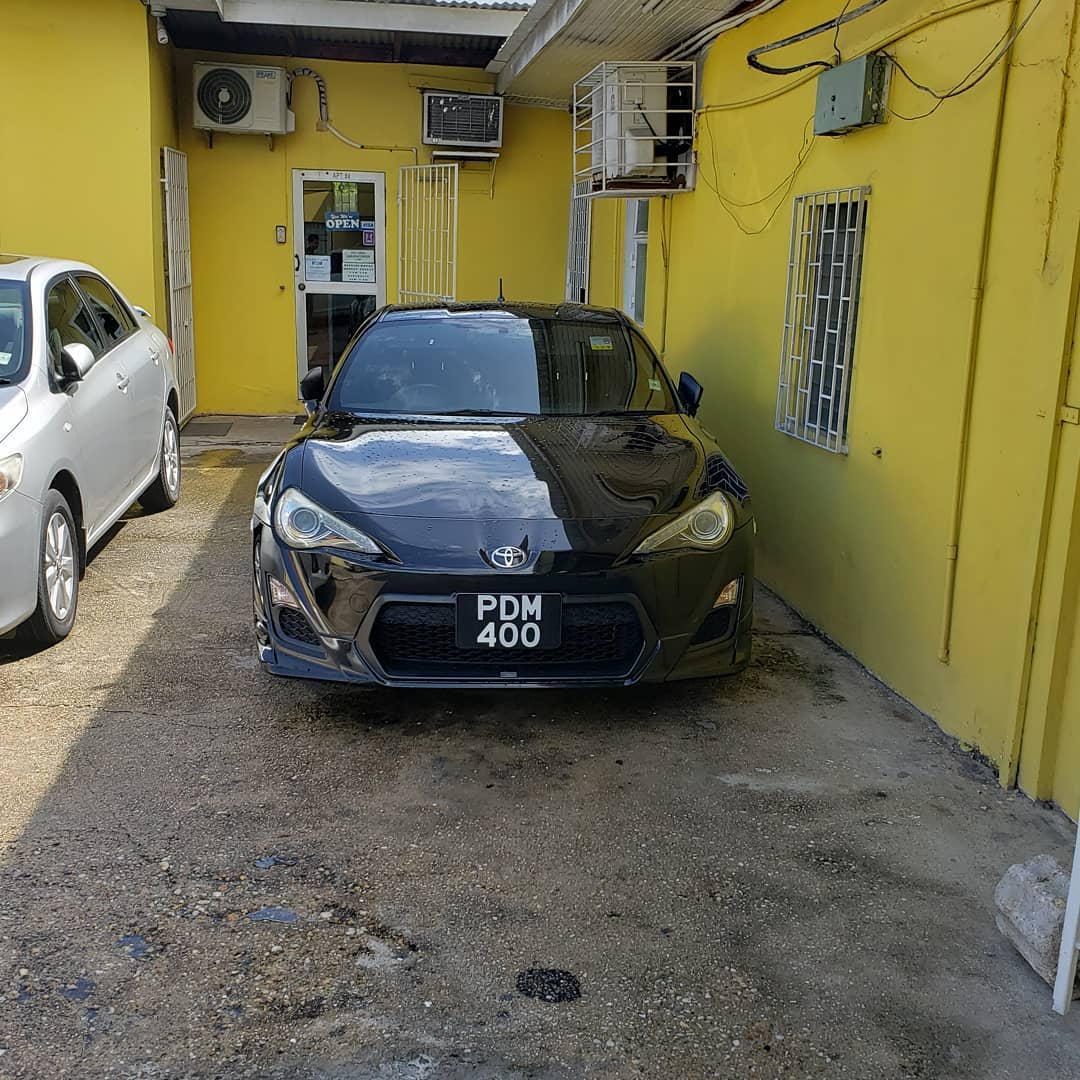License-Plate: (456, 593, 560, 649)
